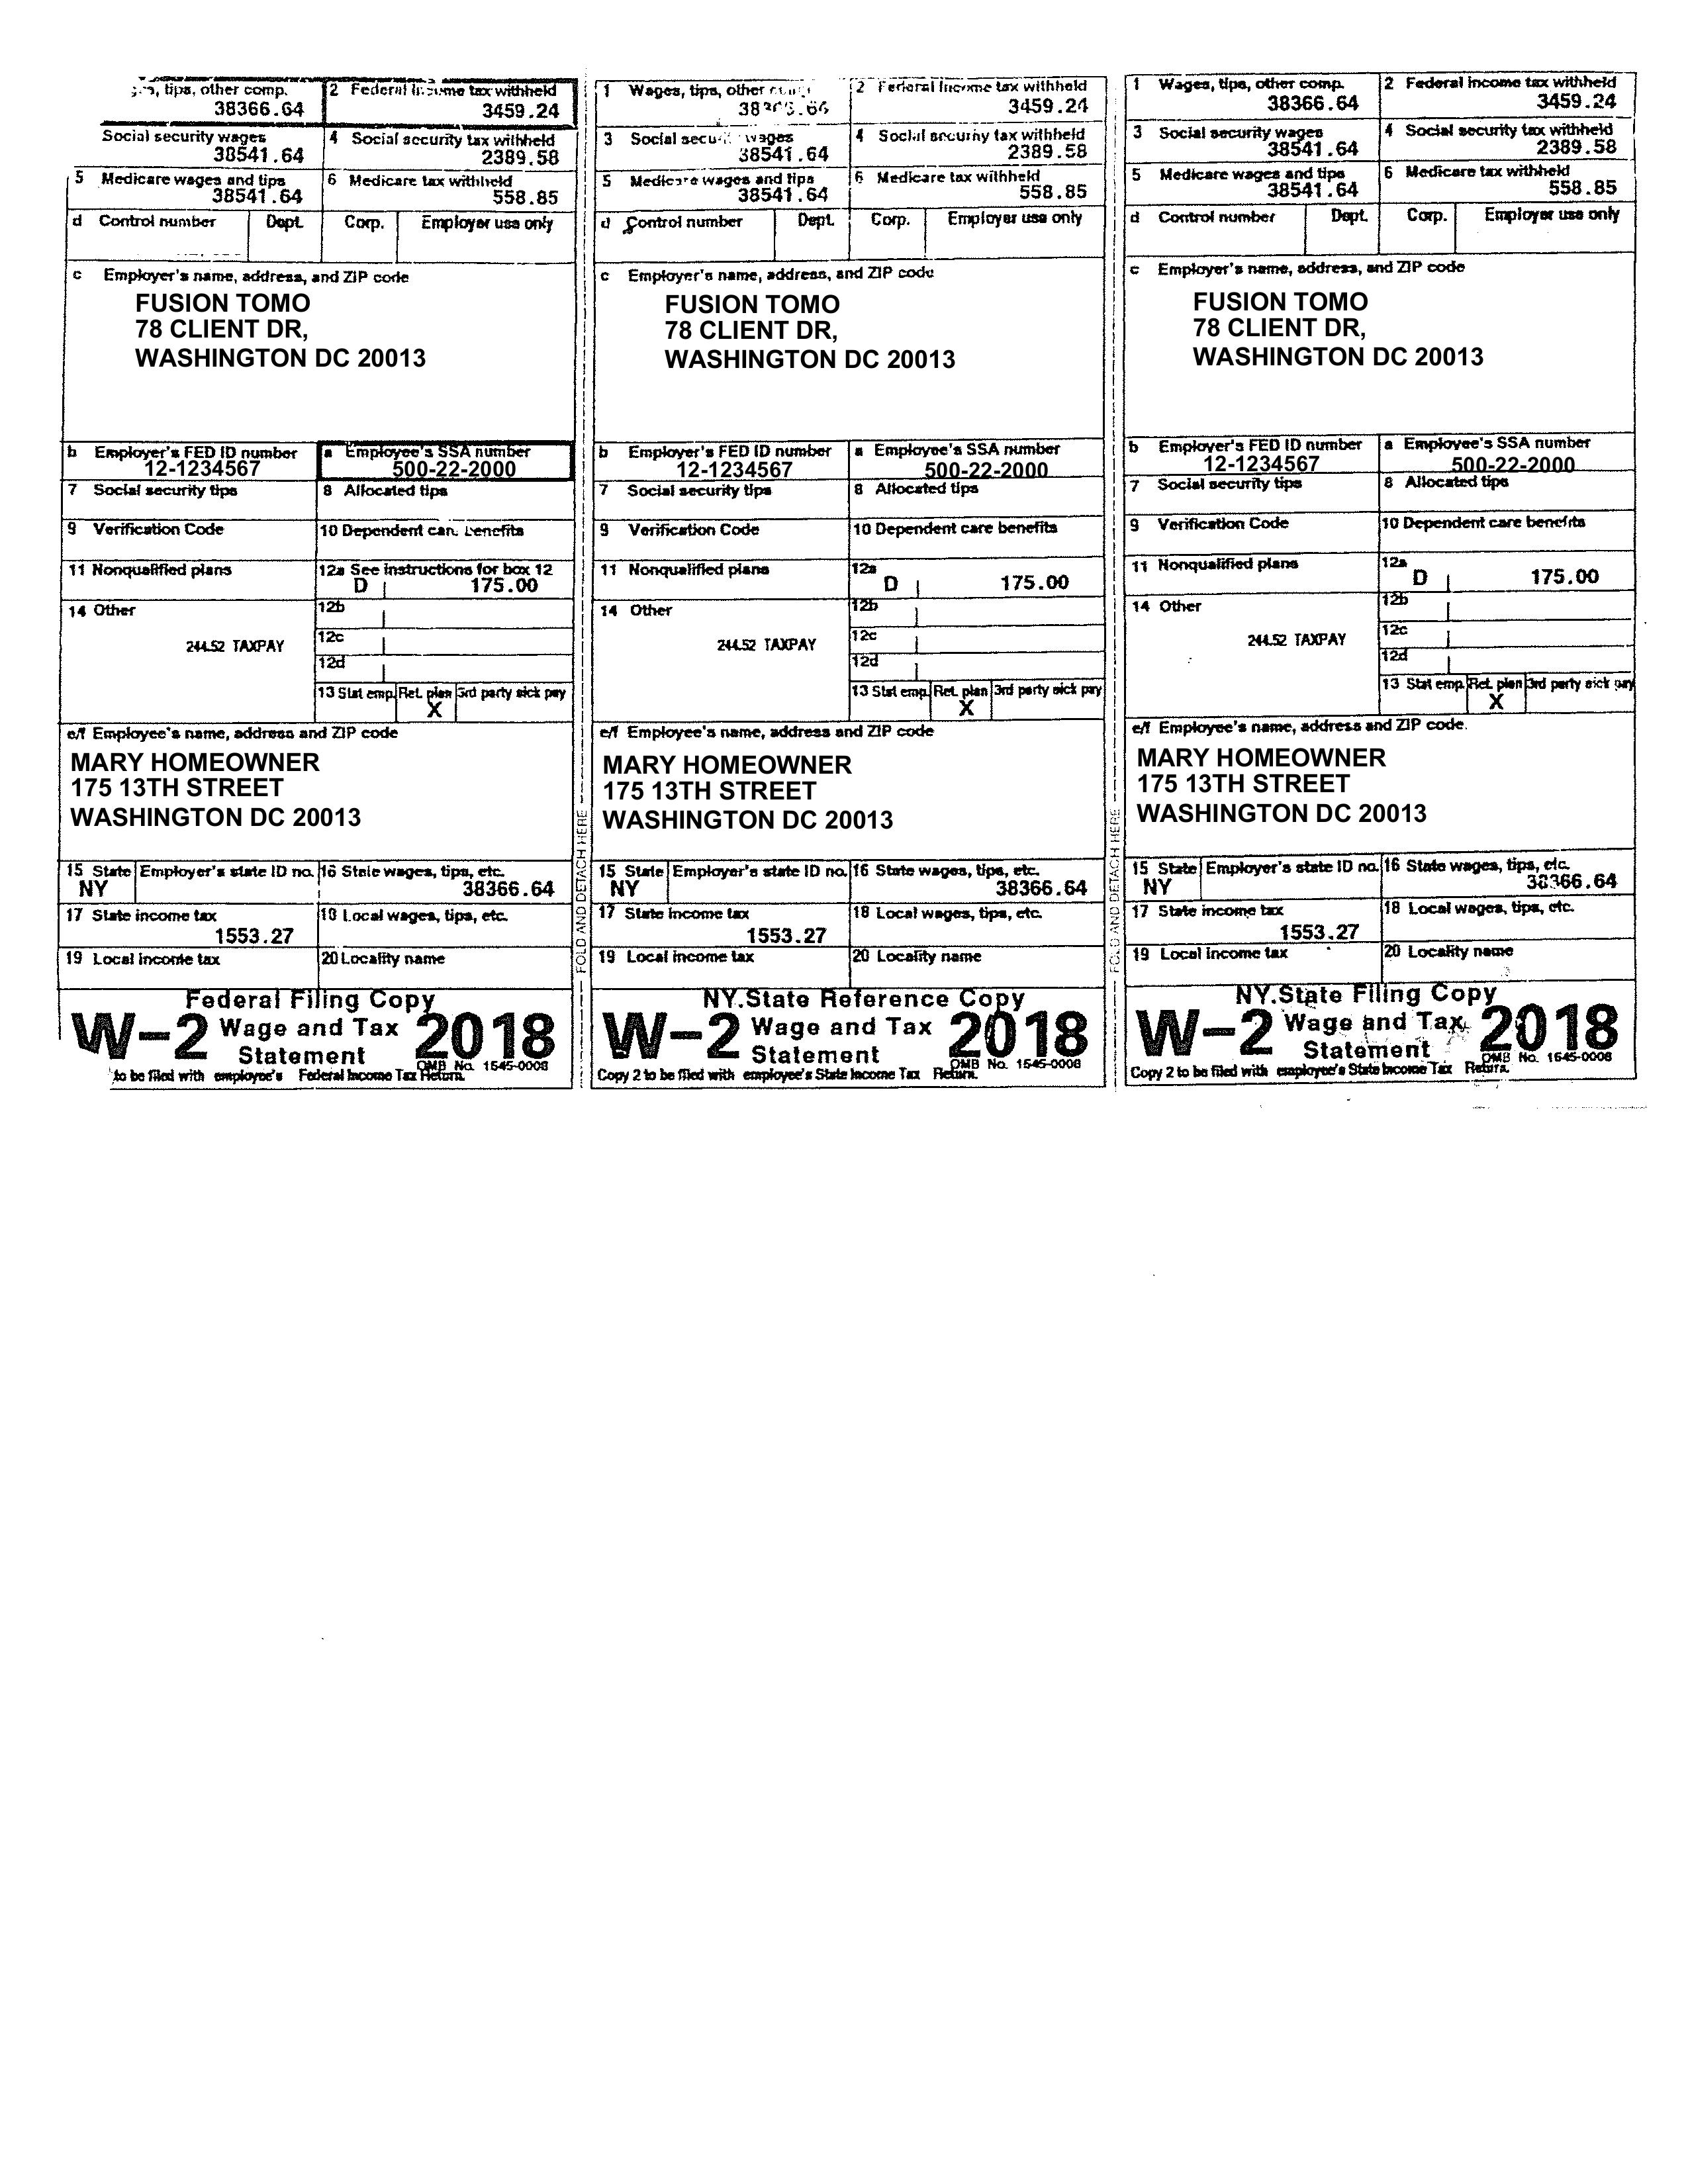table: (594, 74, 1108, 1087), (60, 78, 573, 1090), (1124, 71, 1637, 1083)
